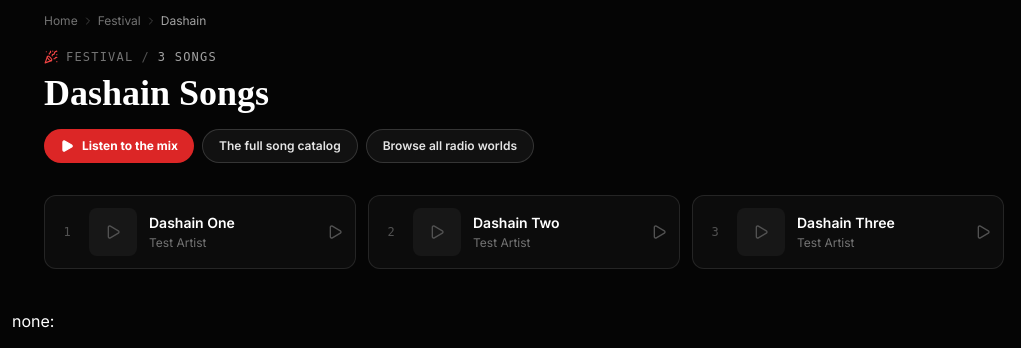
Test: festival playback queue › queues the festival playlist from the festival page play button
Click the button named "Play song: Dashain Two". click: (437, 232)
box: 413,208 -> 461,256
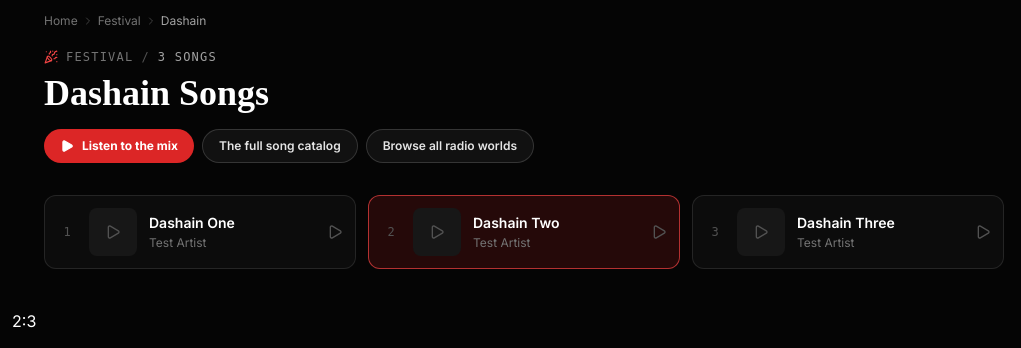
Result: the text with test id "queue" reads "2:3" at 12,311 -> 36,331
